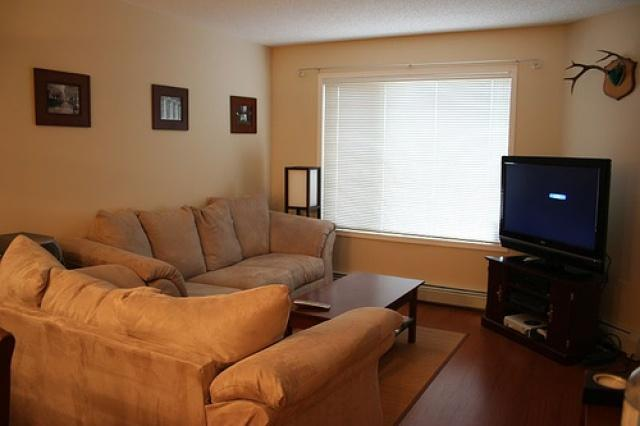AIO PC-Monitor-TV: (498, 154, 612, 274)
Meja: (285, 271, 424, 335)
